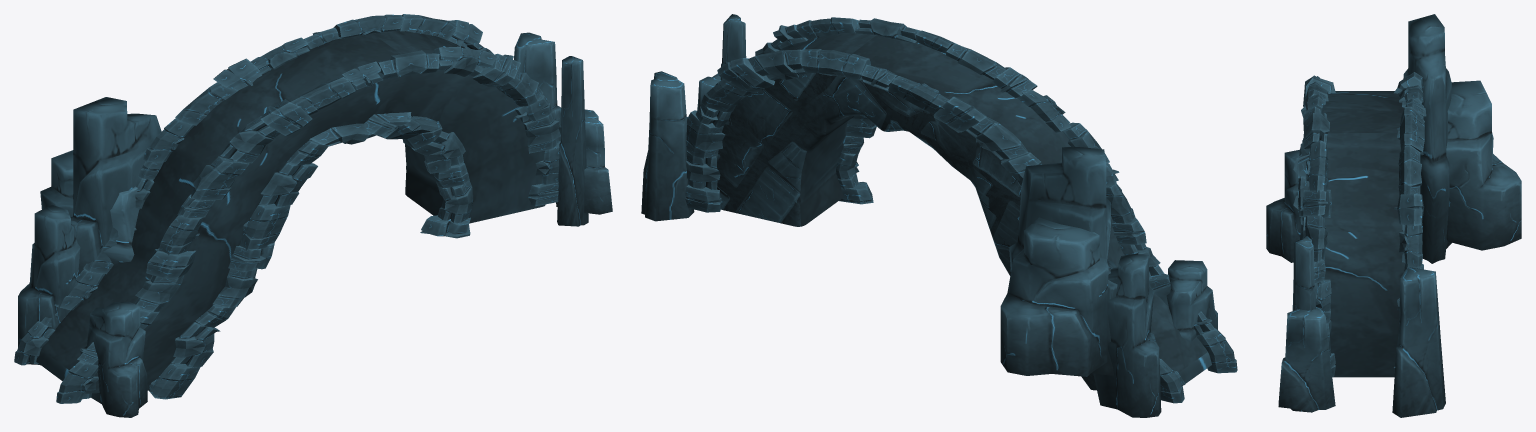
Rendered from bridge.fbx.
3 views of the same model, side by side, from view 1: azimuth 30°, elevation 25°; view 2: azimuth 150°, elevation 25°; view 3: azimuth 270°, elevation 25° (orthographic). The views are drawn at different scales.
Visible parts, largest first — view 1: bridge base, rock_lp_016, rock_lp_023, rock_lp_015, rock_lp_021, rock_lp_012, rock_lp_08, rock_lp_020, rock_lp_022, rock_lp_018, rock_lp_017; view 2: bridge base, rock_lp_022, rock_lp_015, rock_lp_016, rock_lp_08, rock_lp_021, rock_lp_017, rock_lp_012, rock_lp_023, rock_lp_020; view 3: bridge base, rock_lp_022, rock_lp_021, rock_lp_017, rock_lp_016, rock_lp_018, rock_lp_015, rock_lp_012, rock_lp_020, rock_lp_023.
Part boxes in pixels (x1,y1,x2,y2): bridge base: (36, 30, 545, 393); rock_lp_016: (56, 46, 561, 403); rock_lp_023: (149, 112, 473, 399); rock_lp_015: (14, 14, 493, 365); rock_lp_021: (70, 97, 161, 274); rock_lp_012: (80, 302, 147, 417); rock_lp_08: (18, 204, 80, 365); rock_lp_020: (557, 56, 588, 226); rock_lp_022: (40, 150, 138, 264); rock_lp_018: (556, 109, 612, 214); rock_lp_017: (514, 32, 561, 141); bridge base: (716, 33, 1211, 390); rock_lp_022: (1000, 217, 1108, 376); rock_lp_015: (685, 49, 1185, 403); rock_lp_016: (755, 17, 1237, 373); rock_lp_08: (1093, 254, 1161, 417); rock_lp_021: (1009, 147, 1117, 375); rock_lp_017: (641, 71, 694, 221); rock_lp_012: (1166, 260, 1217, 342); rock_lp_023: (836, 116, 876, 204); rock_lp_020: (720, 14, 746, 80); bridge base: (1322, 91, 1405, 377); rock_lp_022: (1446, 80, 1521, 250); rock_lp_021: (1403, 14, 1451, 263); rock_lp_017: (1392, 267, 1445, 417); rock_lp_016: (1299, 75, 1335, 377); rock_lp_018: (1278, 307, 1335, 411); rock_lp_015: (1393, 72, 1426, 368); rock_lp_012: (1266, 149, 1301, 262); rock_lp_020: (1291, 236, 1317, 412); rock_lp_023: (1293, 138, 1309, 239).
Size of the model in its own units: 9967 by 4991 by 3928.
